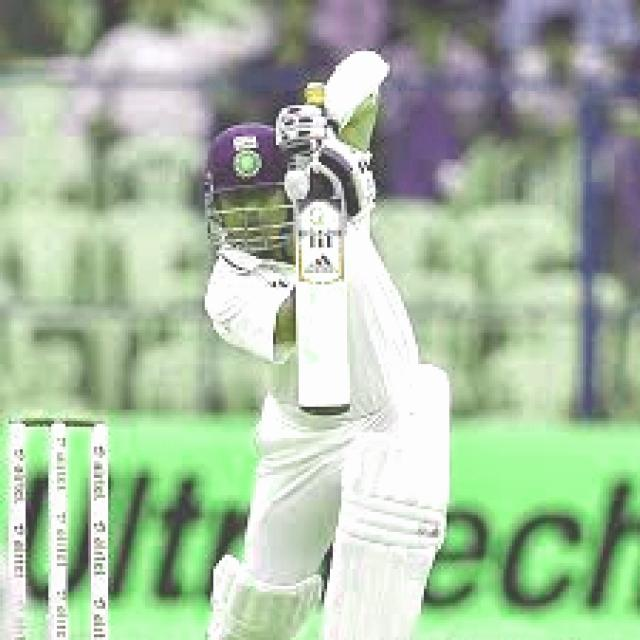toe: (294, 380, 366, 428)
